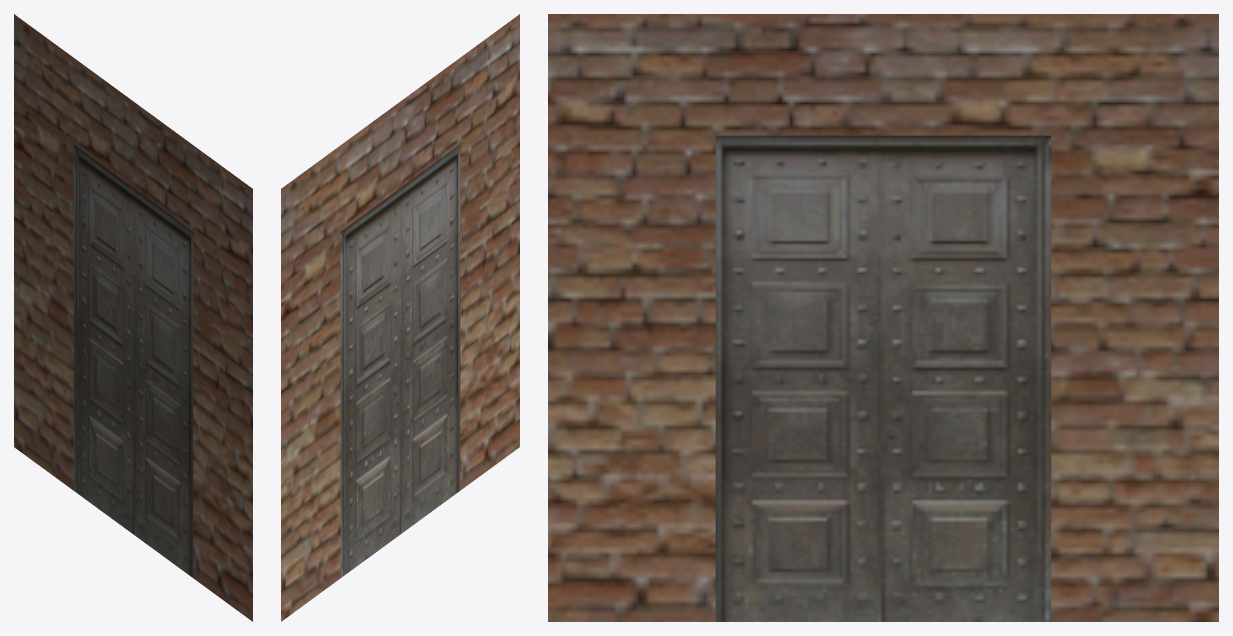
Rendered from Urban_BrickWallMetalDoor_Model.fbx.
3 renders of one model, left to right at view 1: azimuth 30°, elevation 25°; view 2: azimuth 150°, elevation 25°; view 3: azimuth 270°, elevation 25°, orthographic. The views are drawn at different scales.
Parts seen in each view (by area): view 1: Urban_BrickWallMetalDoor_Mesh; view 2: Urban_BrickWallMetalDoor_Mesh; view 3: Urban_BrickWallMetalDoor_Mesh.
Part boxes in pixels (box(x1,y1,x2,y2)): Urban_BrickWallMetalDoor_Mesh: box(14, 14, 252, 621); Urban_BrickWallMetalDoor_Mesh: box(281, 14, 519, 621); Urban_BrickWallMetalDoor_Mesh: box(548, 14, 1218, 621).
Size of the model in its own units: 0 by 2.1 by 2.1.
